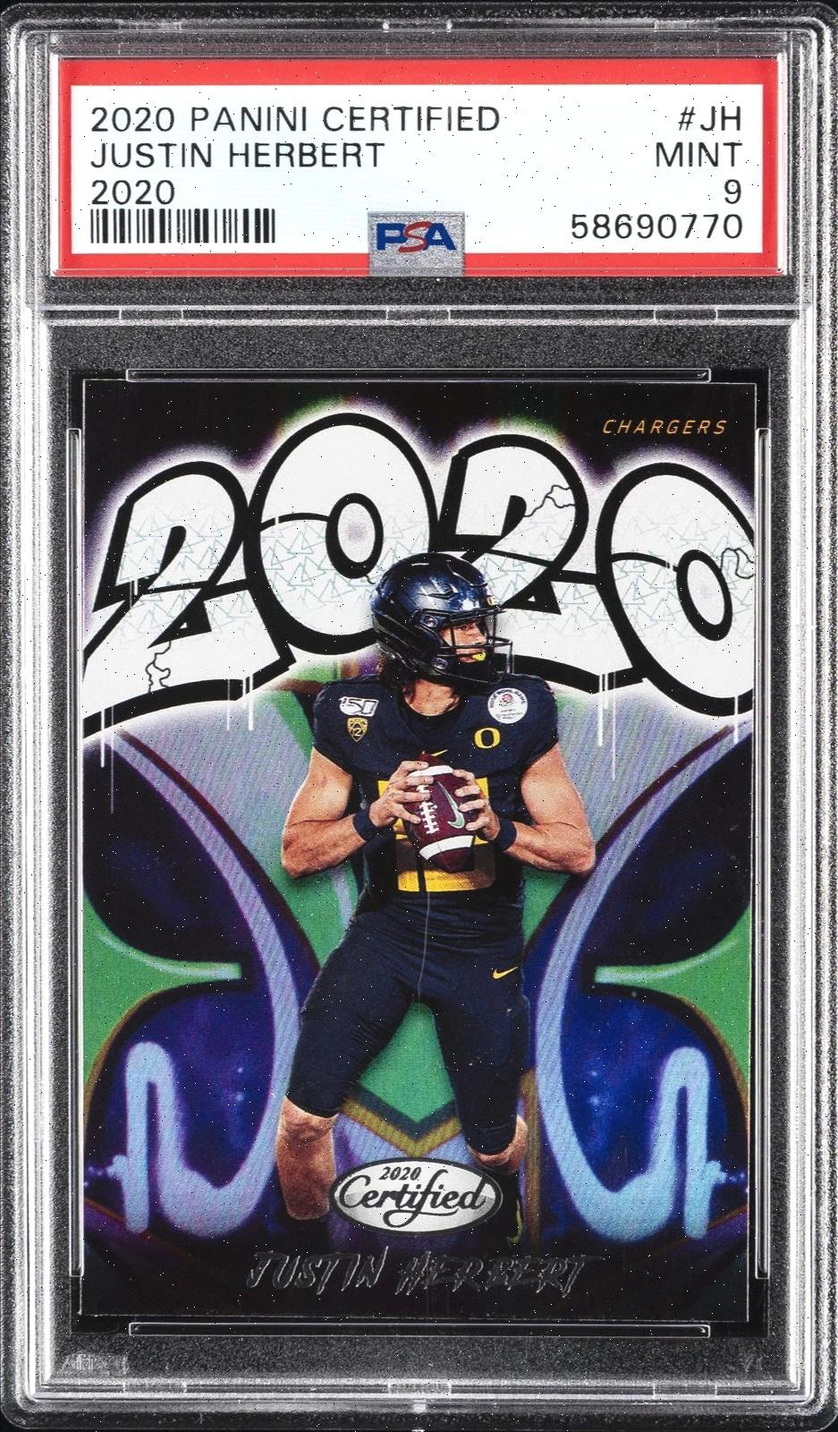card-2UtV: (79, 378, 757, 1322)
